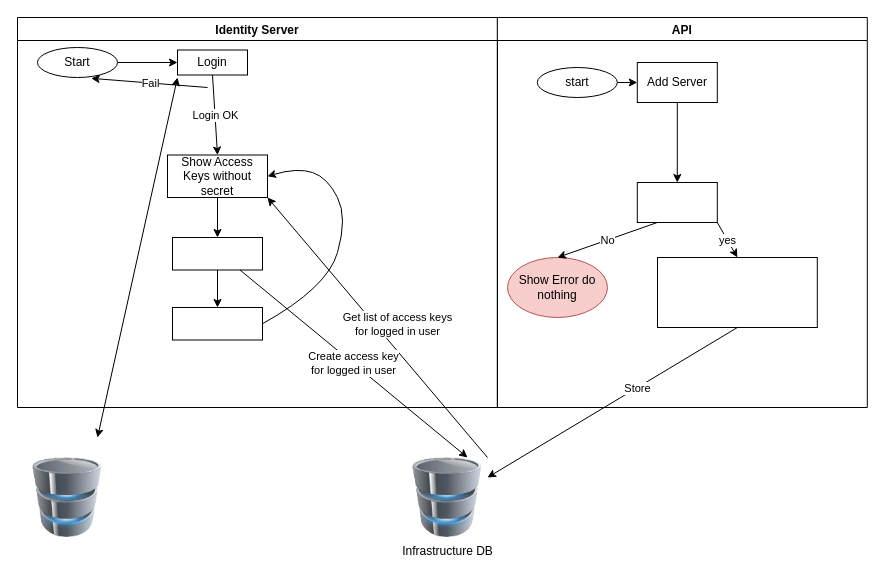
This 885x576 diagram has some shape labels left out. Each missing label, with the centre of its shape:
Create Access Key: [217,253]
Create Server in DB tagged against accountID of accesskey/secret combo: [736,292]
Display secret and access Key: [217,323]
Identity Server DB: [67,497]
Is Access Key secret Valid?: [676,202]
